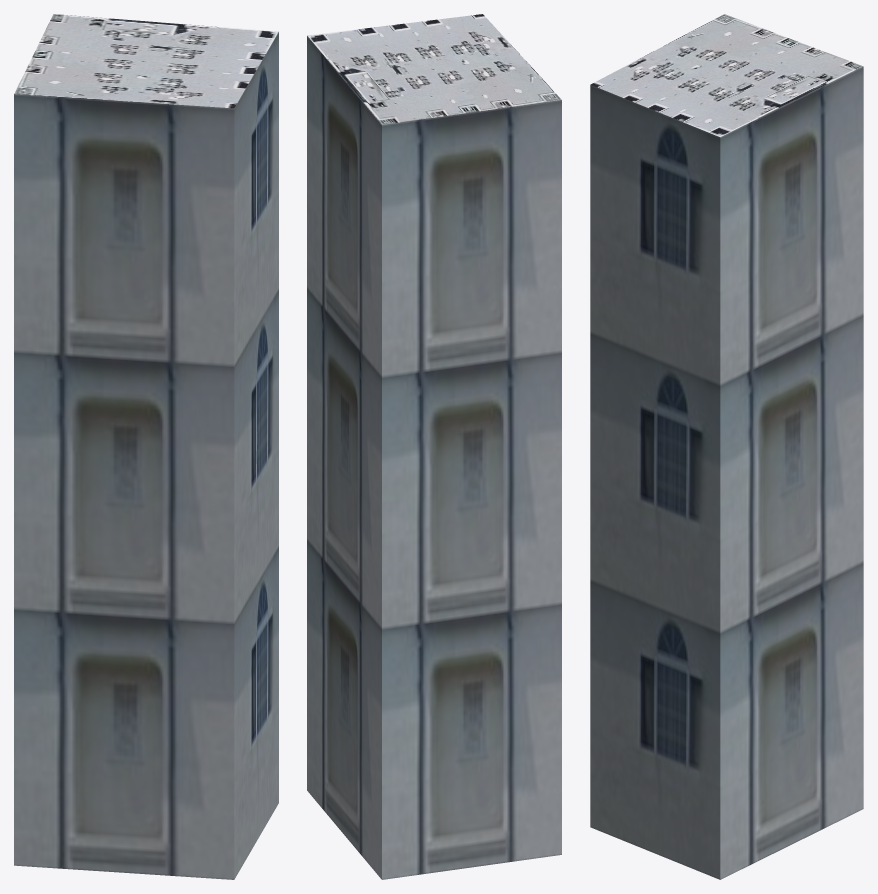
Rendered from ResTex__2278.fbx.
3 views of the same model, side by side, from view 1: azimuth 30°, elevation 25°; view 2: azimuth 150°, elevation 25°; view 3: azimuth 270°, elevation 25° (orthographic). The views are drawn at different scales.
Parts seen in each view (by area): view 1: CityEngineMaterial_17_m, CityEngineMaterial_2_m; view 2: CityEngineMaterial_17_m, CityEngineMaterial_2_m; view 3: CityEngineMaterial_17_m, CityEngineMaterial_2_m.
Part boxes in pixels (x1,y1,x2,y2): CityEngineMaterial_17_m: [14, 32, 278, 879]; CityEngineMaterial_2_m: [14, 14, 278, 108]; CityEngineMaterial_17_m: [307, 36, 561, 879]; CityEngineMaterial_2_m: [307, 14, 561, 124]; CityEngineMaterial_17_m: [590, 66, 863, 879]; CityEngineMaterial_2_m: [590, 14, 862, 137].
Size of the model in its own units: 3.2 by 9 by 3.
2 materials, 2 textured.
